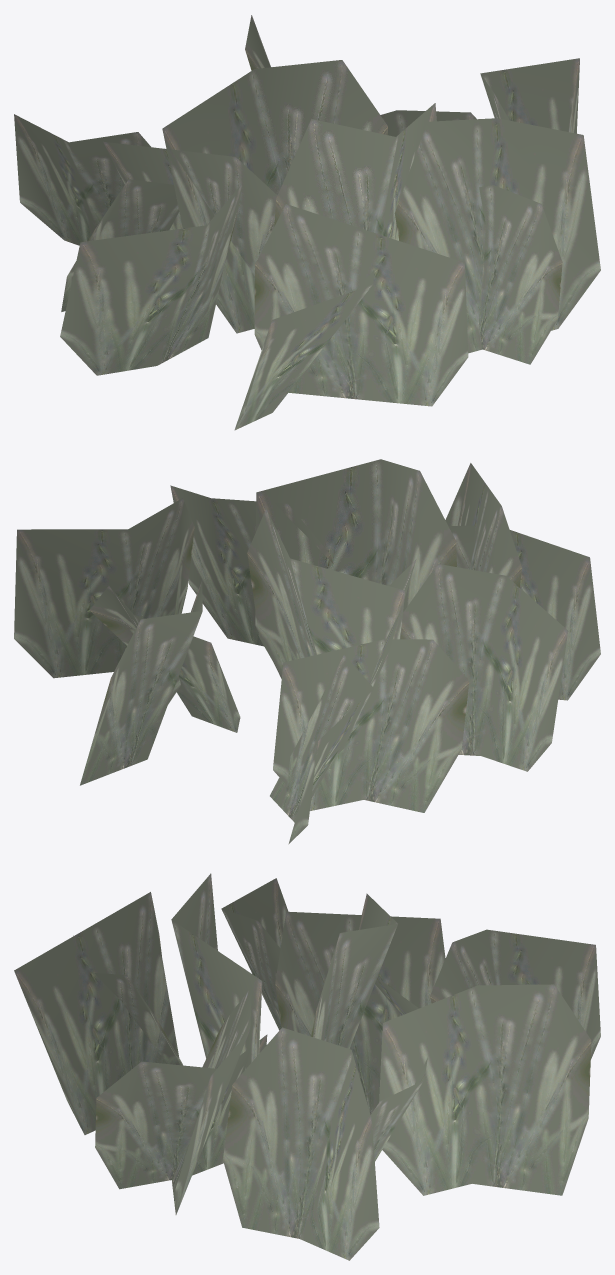
Rendered from proc_grasses01b.FBX.
3 renders of one model, top to bottom at view 1: azimuth 30°, elevation 25°; view 2: azimuth 150°, elevation 25°; view 3: azimuth 270°, elevation 25°, orthographic. The views are drawn at different scales.
Parts seen in each view (by area): view 1: proc_grasses01b; view 2: proc_grasses01b; view 3: proc_grasses01b.
Boxes of the visible parts, x1,y1,x2,y2 form: proc_grasses01b: (14, 15, 600, 430); proc_grasses01b: (14, 459, 600, 844); proc_grasses01b: (14, 873, 600, 1260).
Size of the model in its own units: 2.65 by 2.59 by 1.16.
1 material, 1 textured.
